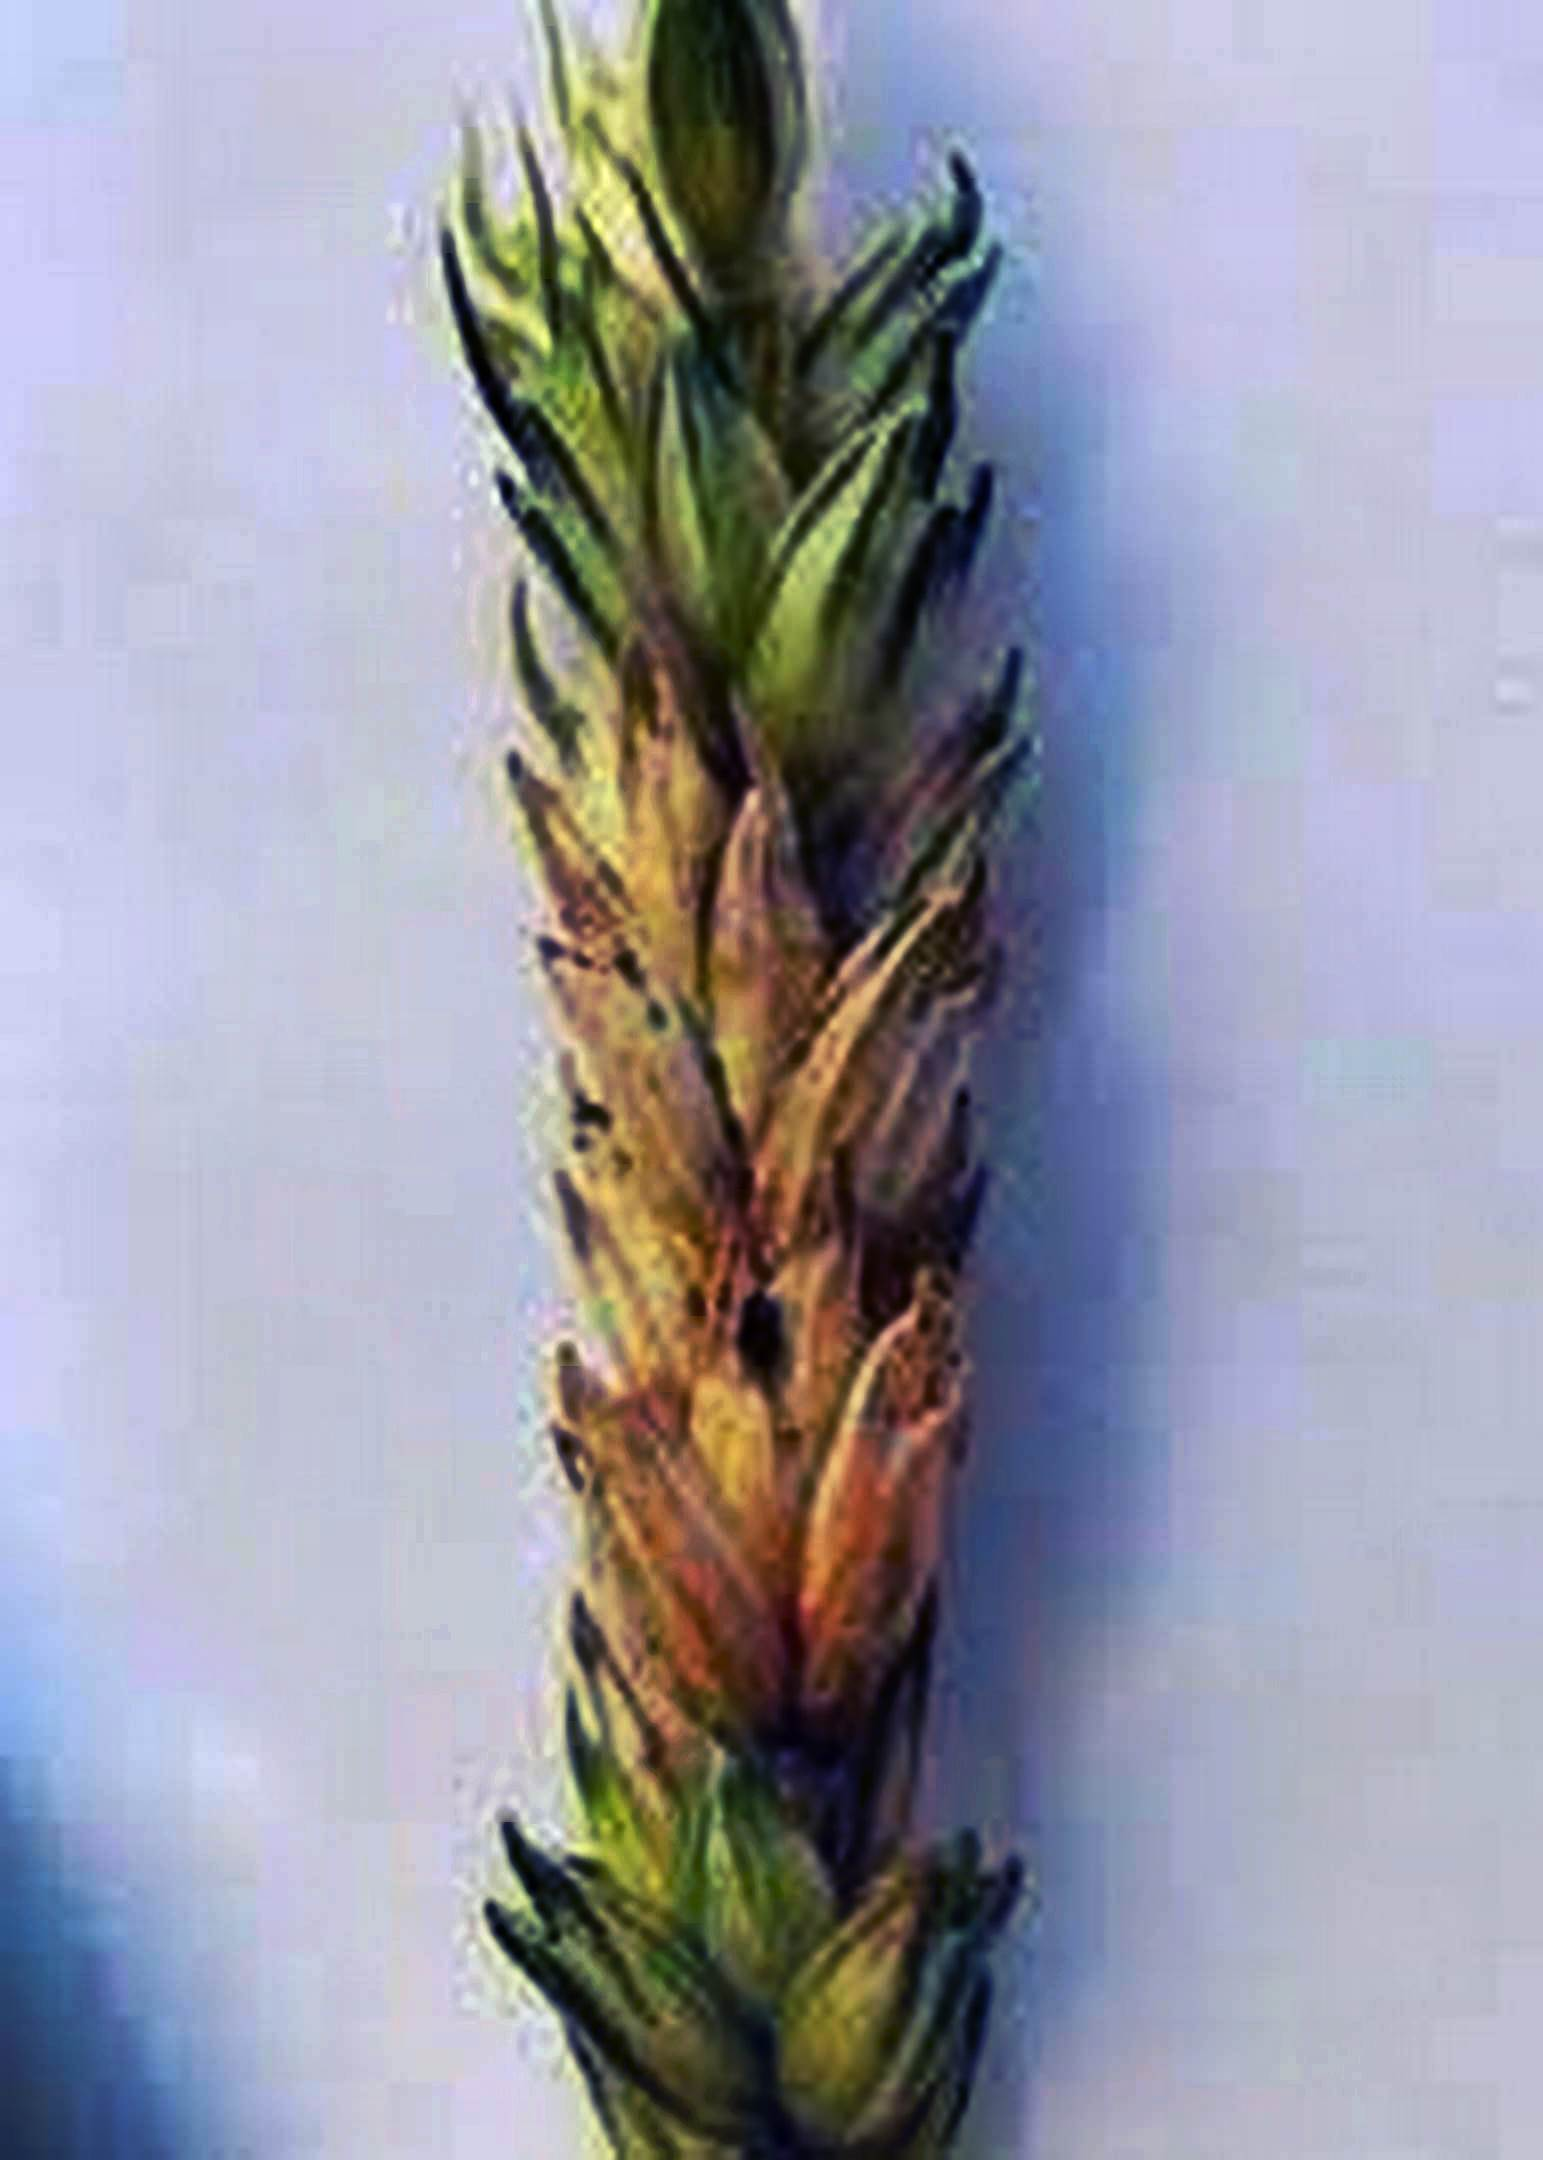Wheat scab: (426, 124, 1094, 2112)
